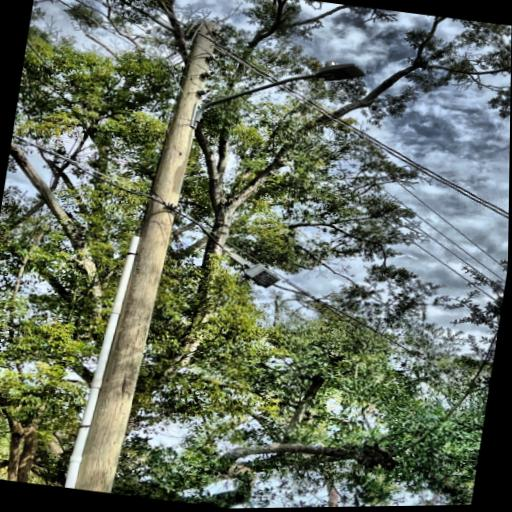pole: (27, 18, 234, 501)
street light: (186, 39, 370, 153)
